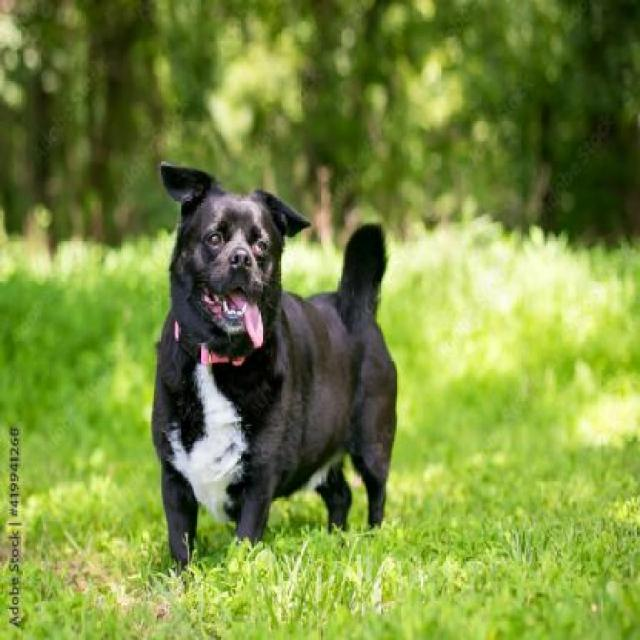Dog: (145, 160, 400, 578)
